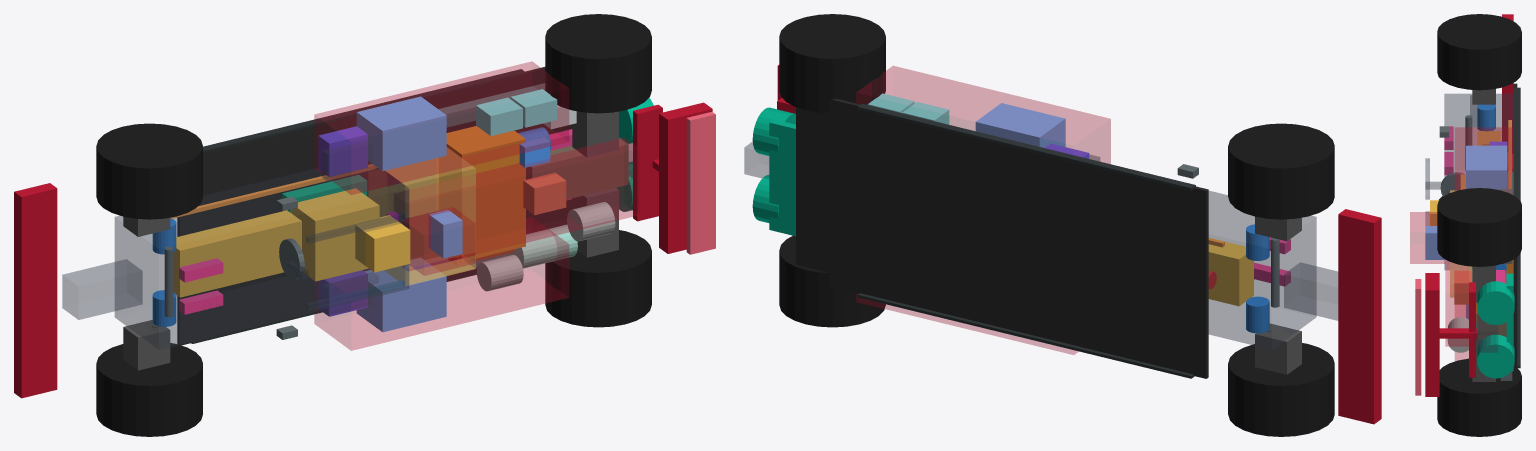
The model's file is scuderiatroll.obj.
The picture shows the model from 3 angles, left to right: view 1: azimuth 30°, elevation 25°; view 2: azimuth 150°, elevation 25°; view 3: azimuth 270°, elevation 25°; orthographic projection. The views are drawn at different scales.
Parts seen in each view (by area): view 1: Monocoque, Sidepod_R, Floor, EngineCover, Sidepod_L, Wheel_RR, Engine_OP4, Wheel_FR, FrontWing, FuelCell, Wheel_FL, Wheel_RL (+36 smaller); view 2: Floor, Monocoque, Sidepod_R, Wheel_FR, Wheel_RR, FrontWing, Wheel_FL, Wheel_RL, Radiator_R, UnderfloorFanDuct, Skirt_R, Nose_FrontCrash (+12 smaller); view 3: Wheel_RR, Wheel_FR, Wheel_RL, Monocoque, Sidepod_R, RearWing_MainPlane, Radiator_R, EngineCover, Airbox, UnderfloorFan_R, UnderfloorFan_L, Skirt_R (+28 smaller).
Boxes of the visible parts, <box> form: Monocoque: <box>115,168,408,349</box>; Sidepod_R: <box>314,61,568,194</box>; Floor: <box>177,67,572,345</box>; EngineCover: <box>406,137,638,270</box>; Sidepod_L: <box>314,217,568,350</box>; Wheel_RR: <box>545,14,651,113</box>; Engine_OP4: <box>436,126,525,261</box>; Wheel_FR: <box>96,123,202,219</box>; FrontWing: <box>14,183,57,398</box>; FuelCell: <box>368,148,475,285</box>; Wheel_FL: <box>96,343,202,436</box>; Wheel_RL: <box>545,230,651,327</box>; Floor: <box>796,99,1208,378</box>; Monocoque: <box>1208,191,1316,349</box>; Sidepod_R: <box>856,66,1110,163</box>; Wheel_FR: <box>1228,123,1334,219</box>; Wheel_RR: <box>779,14,885,113</box>; FrontWing: <box>1338,209,1381,424</box>; Wheel_FL: <box>1228,343,1334,436</box>; Wheel_RL: <box>779,236,885,327</box>; Radiator_R: <box>975,103,1065,147</box>; UnderfloorFanDuct: <box>769,119,795,236</box>; Skirt_R: <box>858,103,1195,190</box>; Nose_FrontCrash: <box>1284,262,1337,320</box>; Wheel_RR: <box>1437,188,1521,266</box>; Wheel_FR: <box>1437,14,1521,90</box>; Wheel_RL: <box>1437,358,1521,436</box>; Monocoque: <box>1444,94,1513,269</box>; Sidepod_R: <box>1455,127,1513,194</box>; RearWing_MainPlane: <box>1425,273,1439,396</box>; Radiator_R: <box>1466,145,1507,190</box>; EngineCover: <box>1445,260,1468,346</box>; Airbox: <box>1410,212,1444,263</box>; UnderfloorFan_R: <box>1477,281,1514,325</box>; UnderfloorFan_L: <box>1477,334,1514,378</box>; Skirt_R: <box>1513,87,1520,200</box>.
Bounding box in the file's own units: 5.01 × 2 × 0.95.
